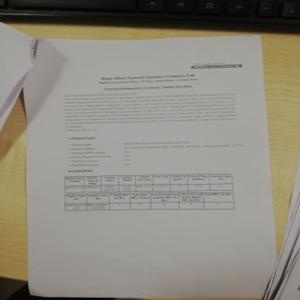table: (65, 173, 236, 210)
text: (63, 89, 238, 131), (67, 133, 244, 173), (95, 69, 199, 91)
